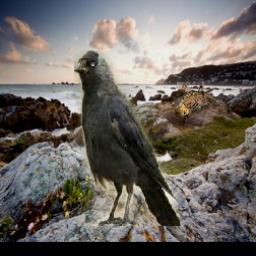Crow: (74, 51, 182, 227)
Sparrow: (177, 82, 215, 116)
